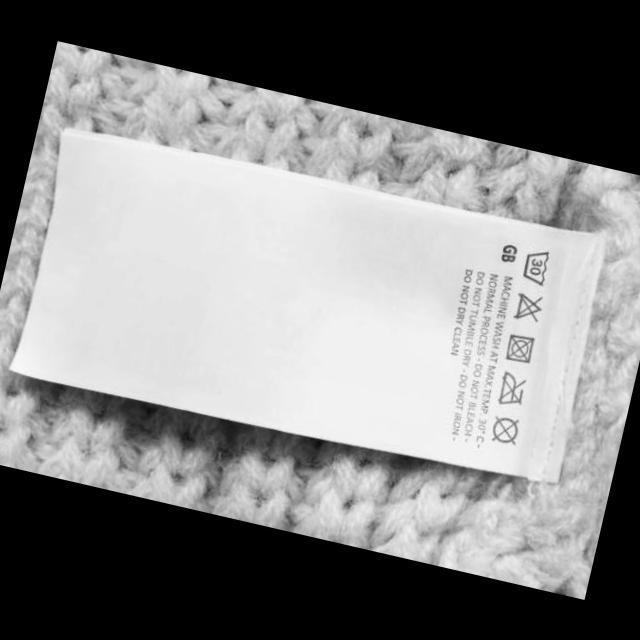30C: (518, 244, 552, 288)
DN_bleach: (510, 288, 546, 327)
DN_dry_clean: (488, 412, 522, 449)
DN_iron: (493, 368, 529, 414)
DN_tumble_dry: (502, 331, 536, 366)
